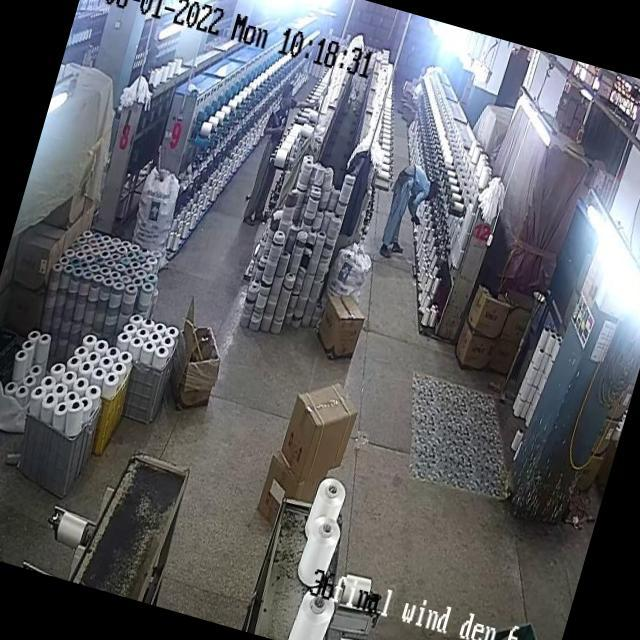person: (243, 82, 300, 216), (375, 154, 439, 258)
